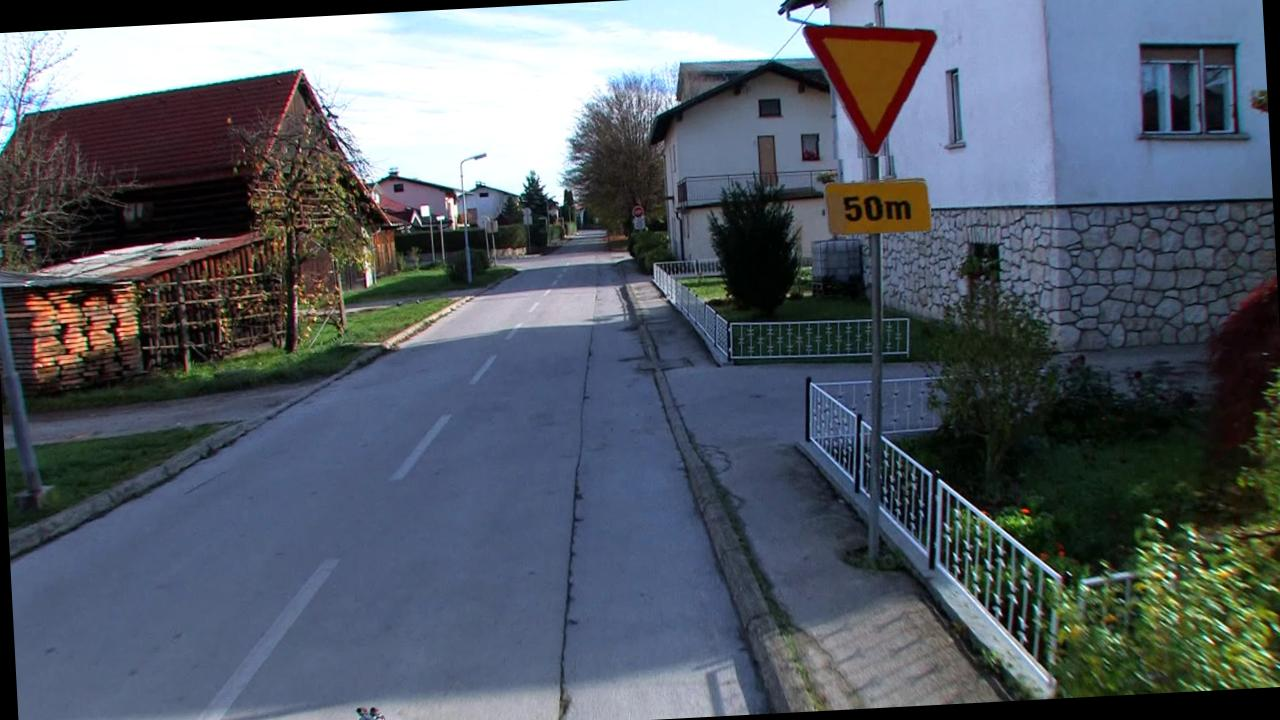Rectangle: (824, 176, 932, 236)
Triangle: (800, 17, 946, 162)
